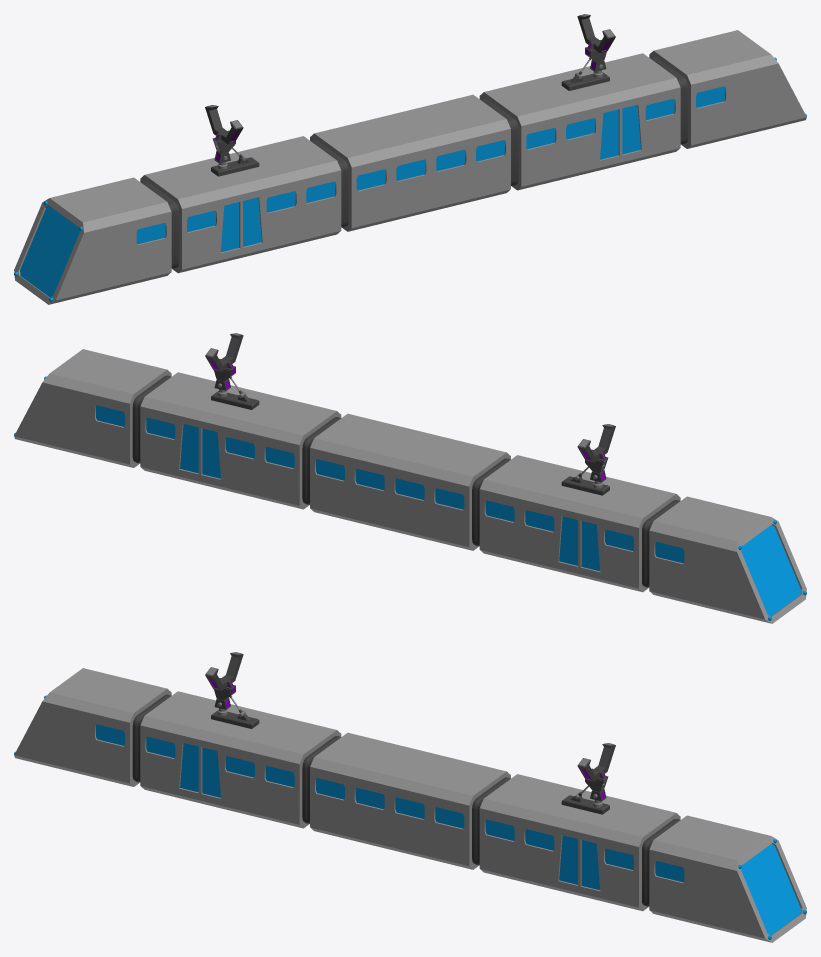
File: KF_Train_High_Poly.fbx
3 views of the same model, one above another, from view 1: azimuth 30°, elevation 25°; view 2: azimuth 150°, elevation 25°; view 3: azimuth 330°, elevation 25° (orthographic).
Visible parts, largest first — view 1: KF_Train_High_Poly; view 2: KF_Train_High_Poly; view 3: KF_Train_High_Poly.
Boxes of the visible parts, bbox=[...] form: KF_Train_High_Poly: bbox=[14, 14, 806, 304]; KF_Train_High_Poly: bbox=[14, 333, 806, 623]; KF_Train_High_Poly: bbox=[14, 652, 806, 942].
Bounding box in the file's own units: 8272 × 1377 × 788.
